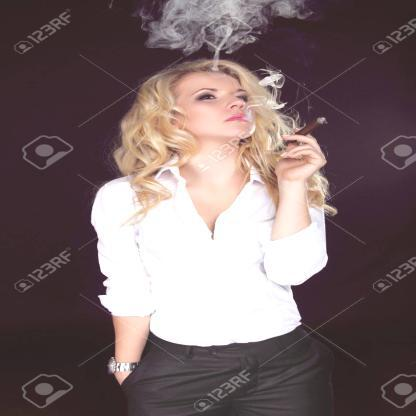cigarette: (294, 115, 332, 136)
person: (91, 58, 340, 415)
smoke: (147, 0, 303, 53), (258, 67, 286, 110)
